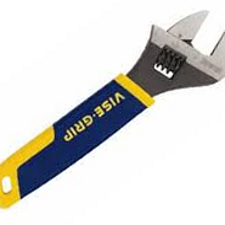Wrench: (11, 11, 225, 202)
